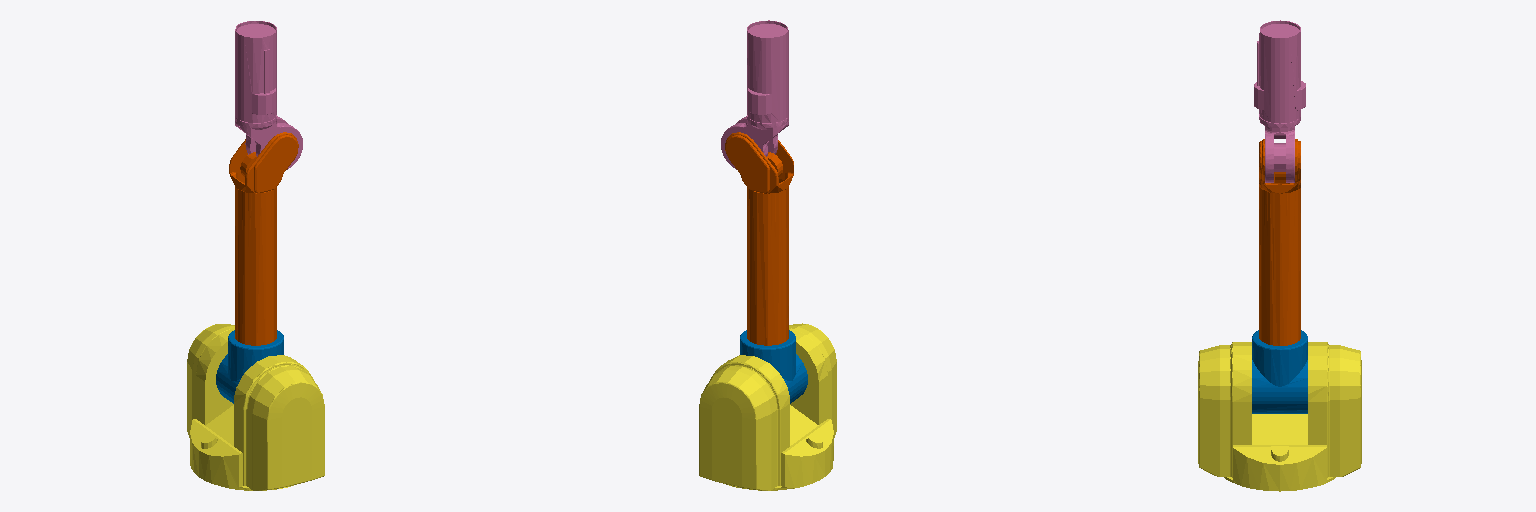
URDF robot description (wam_4dof):
<?xml version="1.0" ?>
<robot name="wam_4dof">
        
  <!-- Fictional Footprint - for integration -->
  <link name="world"/>

  <link name="wam_footprint">
    <inertial>
      <mass value="0.0001" />
      <origin rpy="0.0 0 0" xyz="0.0 0.0 0.84"/>
      <inertia ixx="0.0001" ixy="0.0" ixz="0.0" iyy="0.0001" iyz="0.0" izz="0.0001" />
    </inertial>
    <visual>
      <origin rpy="1.57 0.0 0.0" xyz="0.0 0.0 0.84"/>
        <geometry>
           <box size="0.001 0.001 0.001" />
        </geometry>
    </visual>
    <collision>
      <origin rpy="1.57 0 0.0" xyz="0.0 0.0 0.84"/>
       <geometry>
         <box size="0.001 0.001 0.001" />
       </geometry>
    </collision>  
  </link>
  
  <!-- WAM BASE -->
  <link name="wam_base"> 
  	<inertial>
  	<mass value="9.97059584"/>
	  <origin xyz="-0.02017671 -0.26604706 -0.14071720" />
	  <inertia ixx="1.01232865" ixy="0.05992441" ixz="0.05388736" iyy="0.38443311" iyz="0.37488748" izz="0.82739198"/>
	</inertial>
	<visual> 
      <origin rpy="0 0 0" xyz="0 0 0" />
      <geometry name="wam_base_visual">
        <mesh filename="meshes/wamBase.stl" />
      </geometry>
      <material name="LightGrey">
        <color rgba="0.9 0.9 0.9 1.0"/>
      </material>
    </visual>
    <collision>
      <origin rpy="0 0 0" xyz="0 0 0"/>
      <geometry name="wam_base_collision">
        <mesh filename="meshes/wamBase.stl" />
      </geometry>
      <contact_coefficients kd="1000.0" kp="1000.0" mu="0"/>
    </collision>
  </link>
  
  <!-- LINK J1  -->
  <link name="j1">
    <inertial>
  	  <mass value="10.76768767"/>
	  <origin xyz="-0.00443422 0.12189039 -0.00066489"/>  
	  <inertia ixx="0.29486350" ixy="-0.00795023" ixz="-0.00009311" iyy="0.11350017" iyz="-0.00018711" izz="0.25065343"/>
	</inertial>
	<visual>
      <origin rpy="1.57 0 0" xyz="0 0 0"/>
      <geometry name="link_j1_visual">
        <mesh filename="meshes/wam1.stl" />
      </geometry>
    </visual>
    <collision>
      <origin rpy="1.57 0 0" xyz="0 0 0"/>
      <geometry name="link_j1_collision">
        <mesh filename="meshes/wam1.stl" />
      </geometry>
      <contact_coefficients kd="1000.0" kp="1000.0" mu="0"/>
    </collision>
  </link>
  
  <!-- LINK J2  -->
  <link name="j2">
    <inertial>
  	  <mass value="3.87493756"/>
	  <origin xyz="-0.00236983 0.03105614 0.01542114"/>  
	  <inertia ixx="0.02606840" ixy="-0.00001346" ixz="-0.00011701" iyy="0.01472202" iyz="0.00003659" izz="0.01934814"/>
	</inertial>
	<visual>
      <origin rpy="1.57 0 0" xyz="0 0 0"/>
      <geometry name="link_j2_visual">
        <mesh filename="meshes/wam2.stl" />
      </geometry>
    </visual>
    <collision>
      <origin rpy="1.57 0 0" xyz="0 0 0"/>
      <geometry name="link_j2_collision">
        <mesh filename="meshes/wam2.stl" />
      </geometry>
      <contact_coefficients kd="1000.0" kp="1000.0" mu="0"/>
    </collision>
  </link>
  
  <!-- LINK J3  -->
  <link name="j3">
    <inertial>
  	  <mass value="1.80228141"/>
	  <origin xyz="-0.03825858 0.20750770 0.00003309"/>  
	  <inertia ixx="0.13671601" ixy="-0.01680434" ixz="0.00000510" iyy="0.00588354" iyz="-0.00000530" izz="0.13951371"/>
	</inertial>
	<visual>
      <origin rpy="1.57 0 0" xyz="0 0 0"/>
      <geometry name="link_j3_visual">
        <mesh filename="meshes/wam3.stl" />
      </geometry>
    </visual>
    <collision>
      <origin rpy="01.57 0 0" xyz="0 0 0"/>
      <geometry name="link_j3_collision">
        <mesh filename="meshes/wam3.stl" />
      </geometry>
      <contact_coefficients kd="1000.0" kp="1000.0" mu="0"/>
    </collision>
  </link>
  
  <!-- LINK J4  -->
  <link name="j4">
    <inertial>
  	  <mass value="1.06513649"/>
	  <origin xyz="0.01095471 -0.00002567 0.14053900"/>  
	  <inertia ixx="0.03952350" ixy="0.00000189" ixz="0.00003117" iyy="0.04008214" iyz="0.00000131" izz="0.00210299"/>
	</inertial>
	<visual>
      <origin rpy="1.57 3.14 3.14" xyz="0 0 0"/>
      <geometry name="link_j4_visual">
        <mesh filename="meshes/wam4.stl" />
      </geometry>
    </visual>
    <collision>
      <origin rpy="1.57 3.14 3.14" xyz="0 0 0"/>
      <geometry name="link_j4_collision">
        <mesh filename="meshes/wam4.stl" />
      </geometry>
      <contact_coefficients kd="1000.0" kp="1000.0" mu="0"/>
    </collision>
  </link>  
    
    
  <!-- Joint Descriptions -->
  <joint name="fix_world" type="fixed">
    <parent link="world"/>
    <child link="wam_footprint"/>
  </joint>
  
  <joint name="wam_basejoint" type="fixed">
    <parent link="wam_footprint"/>
    <child link="wam_base" />
    <origin xyz="0 0 0.0" rpy="0 0 0" />
  </joint>
    
  <joint name="wam_j1_joint" type="revolute">
     <!-- <origin xyz="0.22 0.14 0.346" rpy="-1.57079633 0 0" />  -->
     <origin xyz="0.0 0.0 0.346" rpy="-1.57079633 0 0" />
     <parent link="wam_base"/>
     <child link="j1" />
     <axis xyz="0 1 0"/>
     <limit effort="30" velocity="0.5" lower="-2.6" upper="2.6" />
     <dynamics damping="1000"/>
  </joint >
   
  <joint name="wam_j2_joint" type="revolute">
     <origin xyz="0.0 0.0 0.0" rpy="0 0 0" /> 
     <parent link="j1"/>
     <child link="j2" />
     <axis xyz="0 0 1"/>
     <limit effort="30" velocity="0.5" lower="-2.0" upper="2.0" />
     <dynamics damping="1000"/>
  </joint >
  
  <joint name="wam_j3_joint" type="revolute">
     <origin xyz="0.0 0.0 0.0" rpy="0 0 0" /> 
     <parent link="j2"/>
     <child link="j3" />
     <axis xyz="0 1 0"/>
     <limit effort="30" velocity="0.5" lower="-2.8" upper="2.8" />
     <dynamics damping="1000"/>
  </joint >
  
  <joint name="wam_j4_joint" type="revolute">
     <origin xyz="0.045 -0.55 0.0" rpy="1.57079633 0.0 0" /> 
     <parent link="j3"/>
     <child link="j4" />
     <axis xyz="0 1 0"/>
     <limit effort="30" velocity="0.5" lower="-0.9" upper="3.1" />
     <dynamics damping="1000"/>
  </joint >
  
</robot>

--- What the picture shows (computed from the rendered views, not written in the file) ---
Views: 3 orthographic renders of the robot side by side, from view 1: azimuth 30°, elevation 25°; view 2: azimuth 150°, elevation 25°; view 3: azimuth 270°, elevation 25°.
Model wam_4dof with 7 links and 6 joints (4 revolute, 2 fixed), rooted at world, posed every joint at zero.
Links seen in each view (by area): view 1: j1, j3, j4, j2; view 2: j1, j3, j4, j2; view 3: j1, j3, j4, j2.
Boxes of the visible links, x1=… form: j1: x1=187, y1=324, x2=324, y2=490; j3: x1=229, y1=132, x2=298, y2=345; j4: x1=235, y1=21, x2=302, y2=169; j2: x1=216, y1=330, x2=283, y2=403; j1: x1=699, y1=323, x2=836, y2=490; j3: x1=725, y1=132, x2=793, y2=345; j4: x1=721, y1=20, x2=788, y2=169; j2: x1=740, y1=330, x2=807, y2=403; j1: x1=1198, y1=342, x2=1361, y2=491; j3: x1=1259, y1=139, x2=1300, y2=345; j4: x1=1254, y1=20, x2=1305, y2=182; j2: x1=1252, y1=330, x2=1307, y2=413.
Size in the robot's own frame: 0.28 by 0.3478 by 1.02 metres.
Meshes: 5 distinct files referenced, 4 mesh visuals loaded (4 binary STL); not drawn: 1 (reference not matched to a file when rendering).
